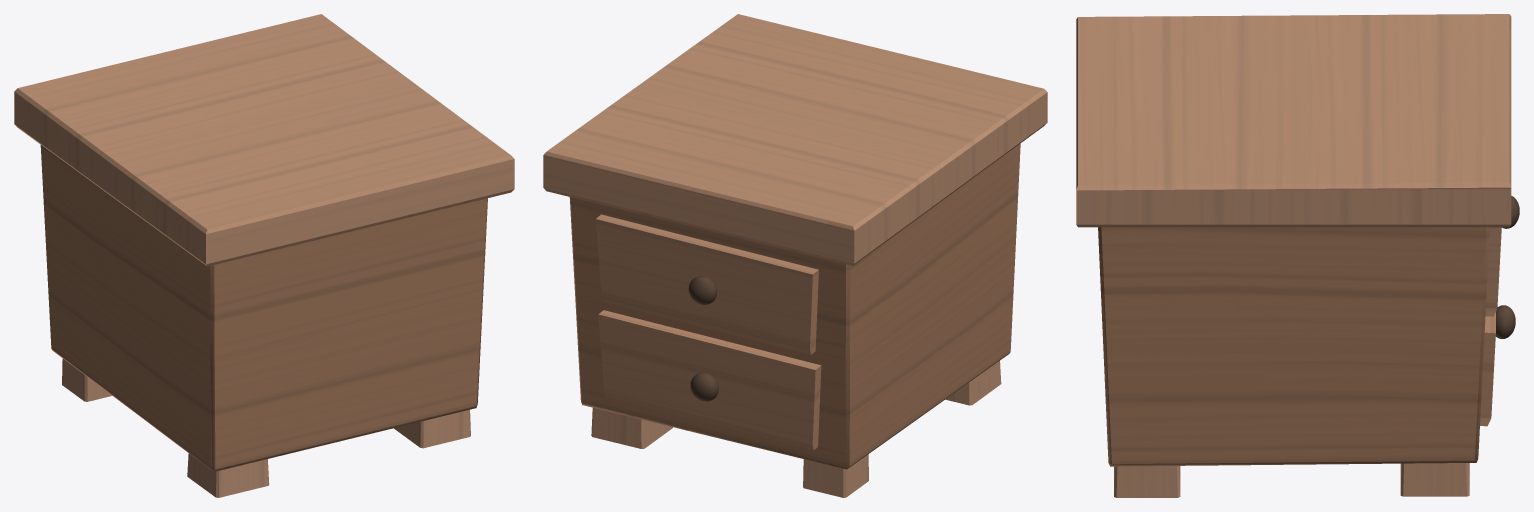
The model's file is Bedside_Table.fbx.
The picture shows the model from 3 angles, left to right: view 1: azimuth 30°, elevation 25°; view 2: azimuth 150°, elevation 25°; view 3: azimuth 270°, elevation 25°; orthographic projection. The views are drawn at different scales.
Visible parts, largest first — view 1: Bedside_Table; view 2: Bedside_Table; view 3: Bedside_Table.
Part boxes in pixels (x1=…): Bedside_Table: x1=14, y1=14, x2=514, y2=497; Bedside_Table: x1=543, y1=14, x2=1047, y2=497; Bedside_Table: x1=1076, y1=14, x2=1519, y2=497.
Size of the model in its own units: 96.41 by 86.37 by 106.
Materials: 1 (1 with a texture image).
